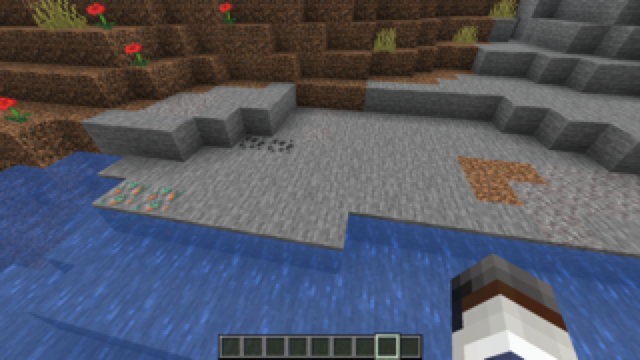coal: (238, 130, 294, 157)
copper: (96, 178, 178, 216)
